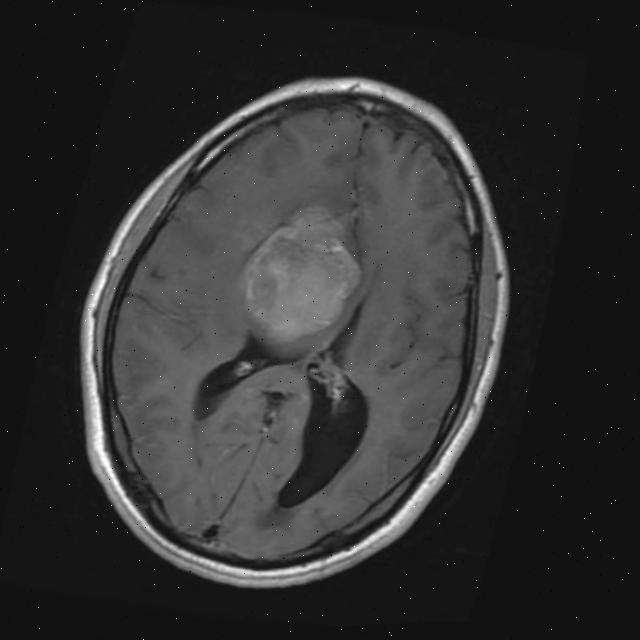Meningioma: (226, 194, 380, 356)
